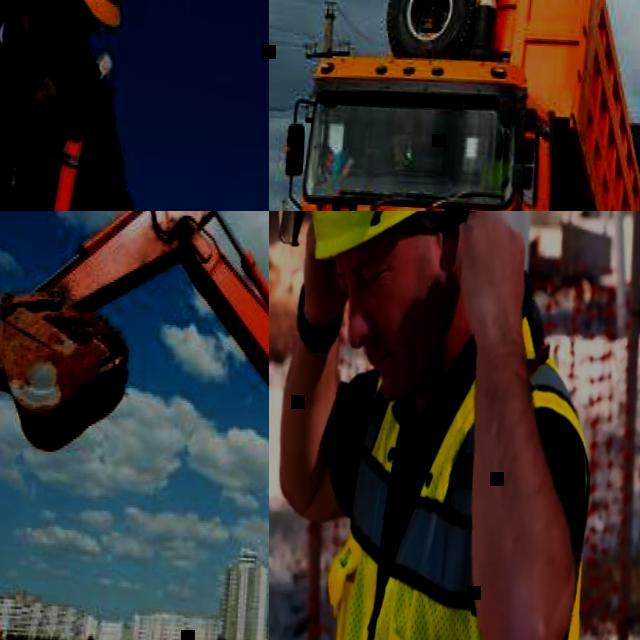helmet: (304, 211, 492, 263)
machinery: (0, 211, 269, 640), (269, 0, 640, 211)
mask: (29, 5, 82, 81)
no_mask: (342, 211, 465, 407)
no_vest: (0, 13, 74, 211)
person: (269, 211, 611, 640), (0, 0, 234, 211), (312, 138, 360, 180), (476, 138, 511, 192)
vest: (318, 293, 599, 640), (478, 155, 512, 191), (322, 148, 350, 177)
